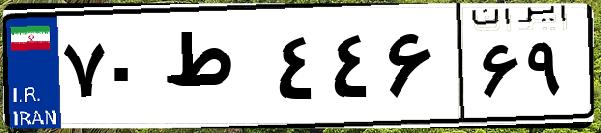0: (110, 28, 158, 98)
4: (270, 28, 330, 110), (330, 28, 385, 110)
6: (385, 28, 445, 110), (475, 38, 525, 113)
7: (57, 26, 110, 100)
9: (525, 38, 570, 115)
ط: (158, 20, 270, 120)
